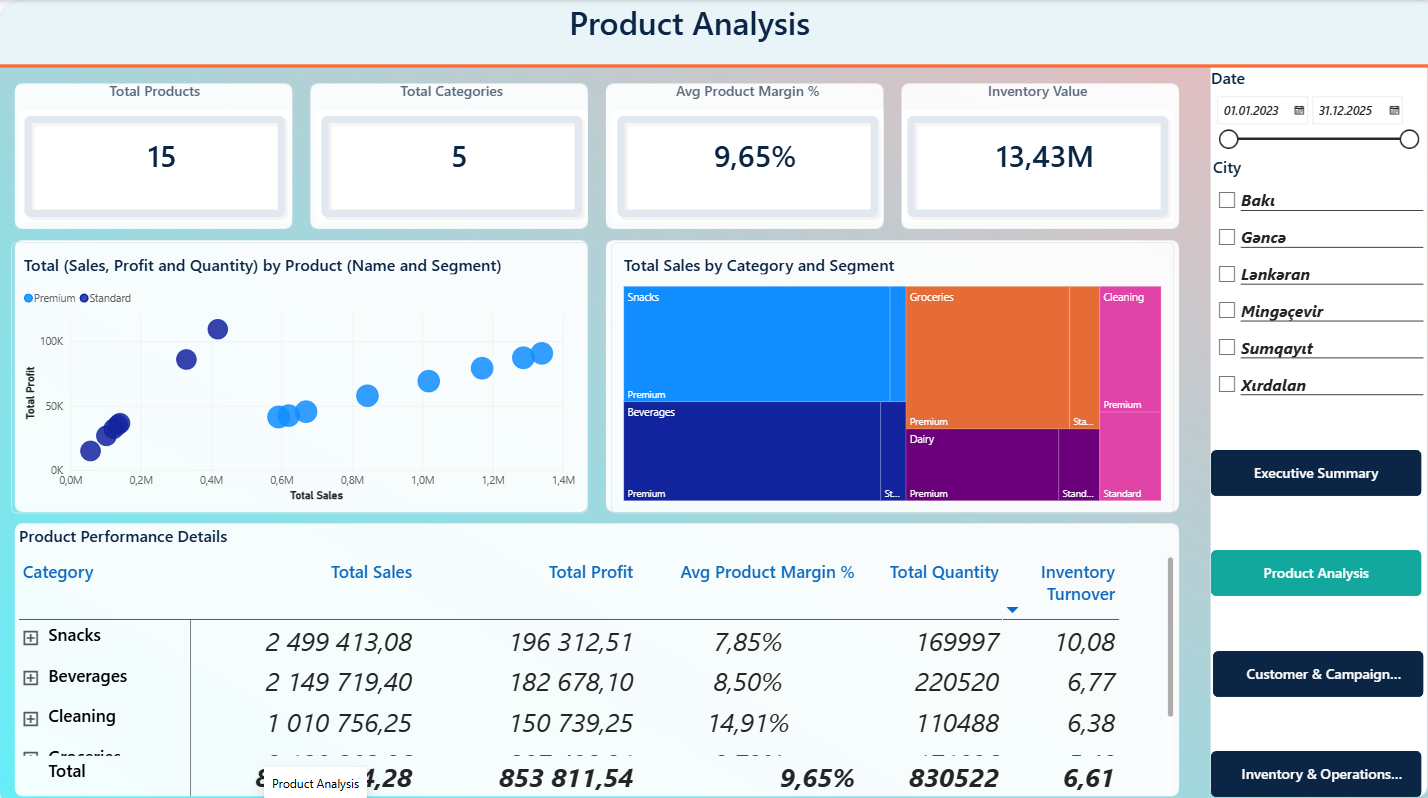

What the dashboard file says about the page in this screenshot:
{"tool":"powerbi","page":{"name":"Product Analysis","canvas":[1920,1080],"ordinal":1},"visuals":[{"type":"cardVisual","title":"Total Products","fields":{"Data":["Ölçülər.Total Products"]},"box":[27.1,107.1,361.2,188.8],"z":0},{"type":"cardVisual","title":"Avg Product Margin %","fields":{"Data":["Ölçülər.Avg Product Margin %"]},"box":[814.8,107.1,361,188],"z":1000},{"type":"cardVisual","title":"Inventory Value","fields":{"Data":["Ölçülər.Inventory Value"]},"box":[1201.4,107.1,361,188],"z":2000},{"type":"cardVisual","title":"Total Categories","fields":{"Data":["Ölçülər.Total Categories"]},"box":[421.1,107.5,361,188],"z":3000},{"type":"textbox","box":[588.8,0,658.8,88.8],"z":4000},{"type":"treemap","title":"Total Sales by Category and Segment","fields":{"Details":["DimProduct.Segment"],"Group":["DimProduct.Category"],"Values":["Ölçülər.Total Sales"]},"box":[814.3,321.4,748.6,361.4],"z":5000},{"type":"slicer","title":"Date","fields":{"Values":["DimDate.Date"]},"box":[1611.4,88.6,280,112.9],"z":6000},{"type":"slicer","title":"City","fields":{"Values":["DimStore.City"]},"box":[1614.3,207.1,280,332.9],"z":7000},{"type":"scatterChart","title":"Total (Sales, Profit and Quantity) by Product (Name and Segment)","fields":{"Category":["DimProduct.ProductName"],"Series":["DimProduct.Segment"],"Size":["Ölçülər.Total Quantity"],"X":["Ölçülər.Total Sales"],"Y":["Ölçülər.Total Profit"]},"box":[15.7,321.4,767.1,361.4],"z":8000},{"type":"pivotTable","title":"Product Performance Details","fields":{"Rows":["DimProduct.Category","DimProduct.Segment","DimProduct.ProductName"],"Values":["Ölçülər.Total Sales","Ölçülər.Total Profit","Ölçülər.Avg Product Margin %","Ölçülər.Total Quantity","Ölçülər.Inventory Turnover"]},"box":[27.1,698.6,1535.7,361.4],"z":9000},{"type":"actionButton","title":"OVERVIEW","box":[1614.3,865.2,280,61.4],"z":10000},{"type":"actionButton","title":"OVERVIEW","box":[1611.4,598.6,280,61.4],"z":11000},{"type":"actionButton","title":"OVERVIEW","box":[1611.4,998.6,280,61.4],"z":12000},{"type":"actionButton","title":"OVERVIEW","box":[1611.4,731.9,280,61.4],"z":13000}]}

Visuals, with their boxes on the page's 1920x1080 design canvas (x1, y1, x2, y2). These are canvas units, not pixel positions in the 1428x798 screenshot, which may show the page scaled, cropped or inside an application window:
"Total Products" cardVisual: (27,107,388,296)
"Avg Product Margin %" cardVisual: (815,107,1176,295)
"Inventory Value" cardVisual: (1201,107,1562,295)
"Total Categories" cardVisual: (421,108,782,296)
textbox: (589,0,1248,89)
"Total Sales by Category and Segment" treemap: (814,321,1563,683)
"Date" slicer: (1611,89,1891,202)
"City" slicer: (1614,207,1894,540)
"Total (Sales, Profit and Quantity) by Product (Name and Segment)" scatterChart: (16,321,783,683)
"Product Performance Details" pivotTable: (27,699,1563,1060)
"OVERVIEW" actionButton: (1614,865,1894,927)
"OVERVIEW" actionButton: (1611,599,1891,660)
"OVERVIEW" actionButton: (1611,999,1891,1060)
"OVERVIEW" actionButton: (1611,732,1891,793)
